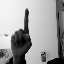d: (9, 7, 33, 59)
